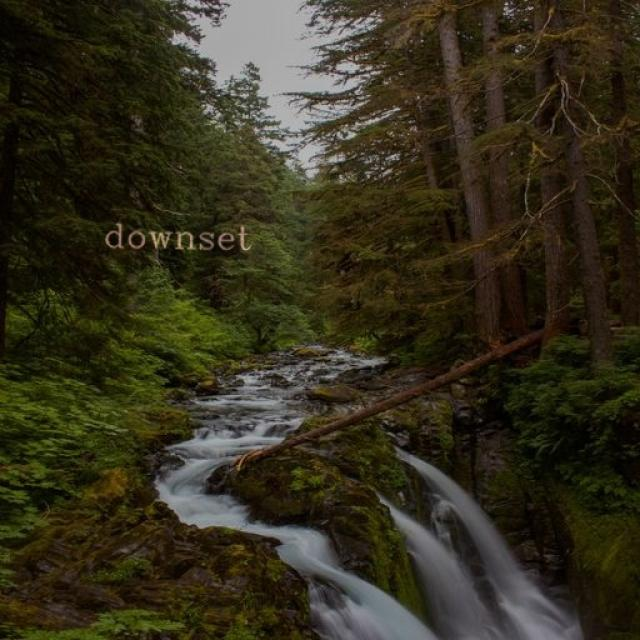watermark: (94, 221, 275, 255)
